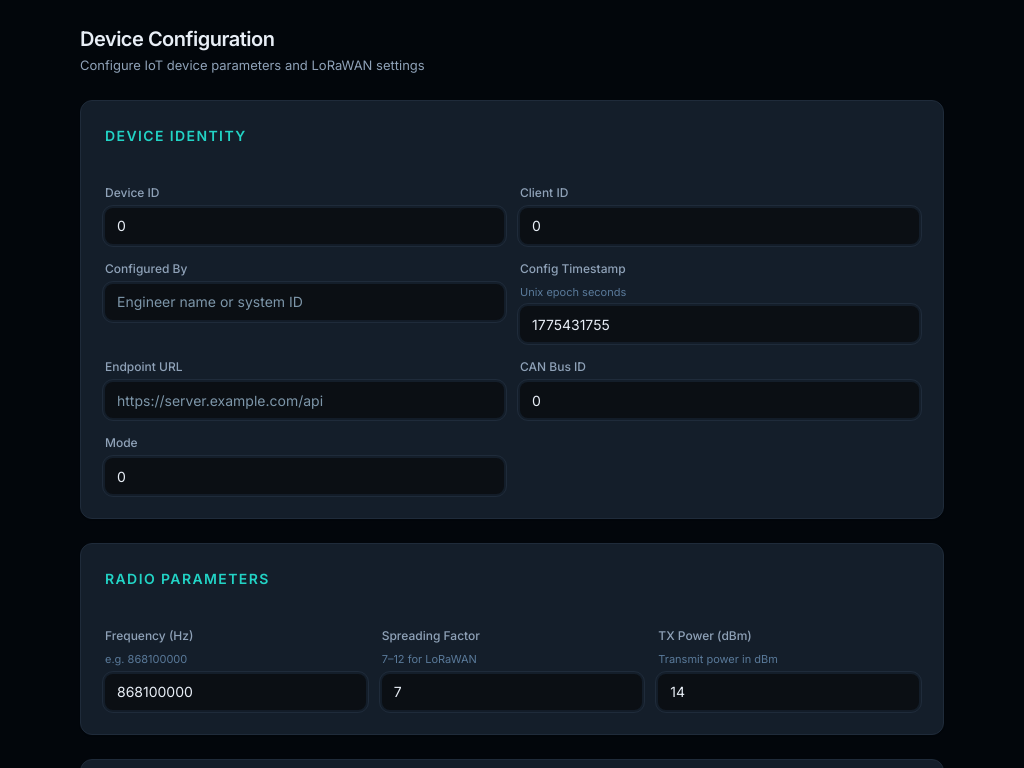
Test: DeviceConfigPage › populates form on successful fetch
The image size is (1024, 768).
Set device_id input
Replace the text in the number field labelled "Device ID" with "42": (304, 226) x1=105 y1=208 x2=504 y2=244
(page scrolled)
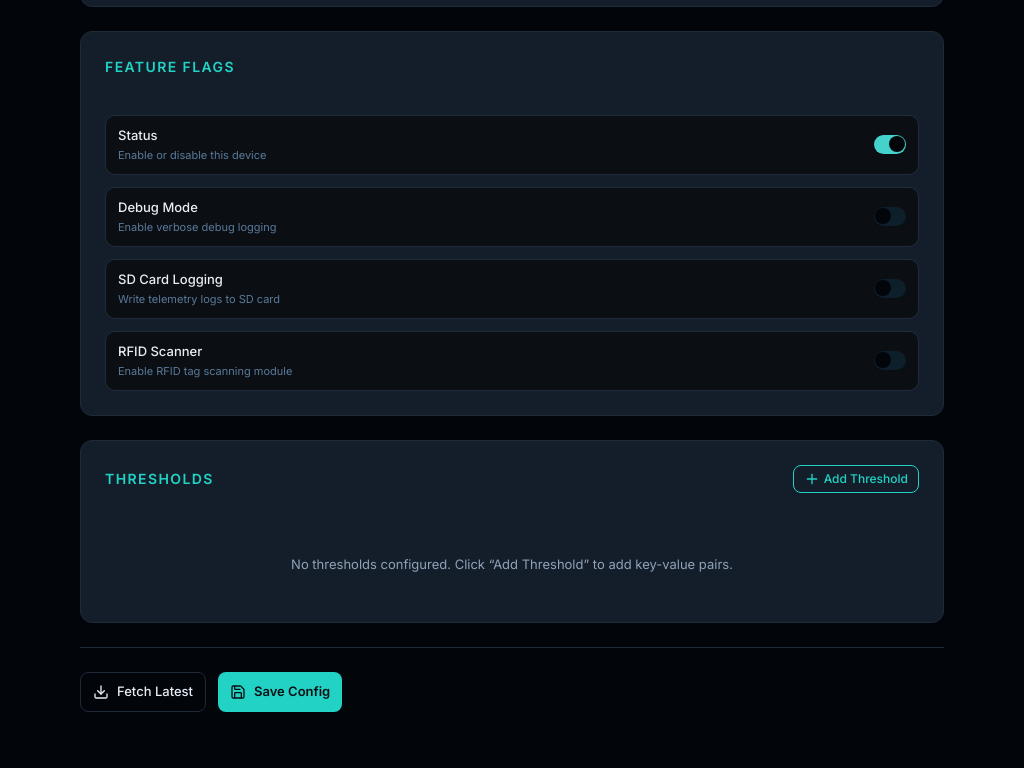
Click the button "Fetch Latest": (143, 692) x1=80 y1=672 x2=206 y2=712
(page scrolled)
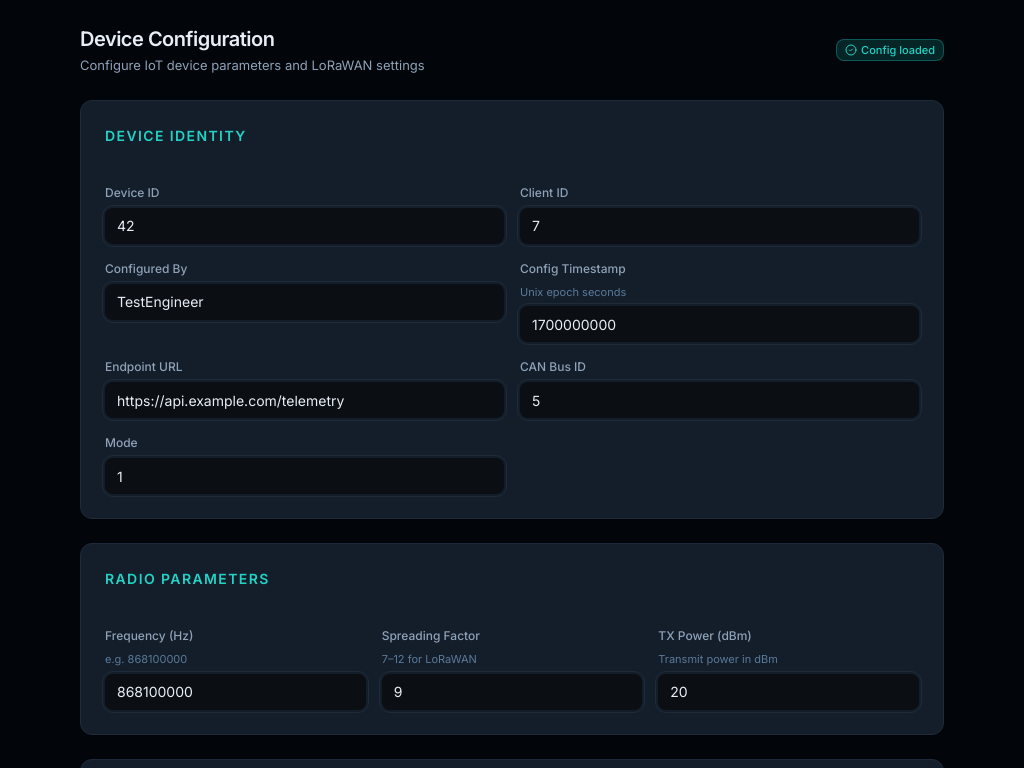
Check: the text "Config loaded" is shown, box x1=836 y1=38 x2=944 y2=61
Check: the field labelled "Configured By" holds "TestEngineer", box x1=105 y1=284 x2=504 y2=320
